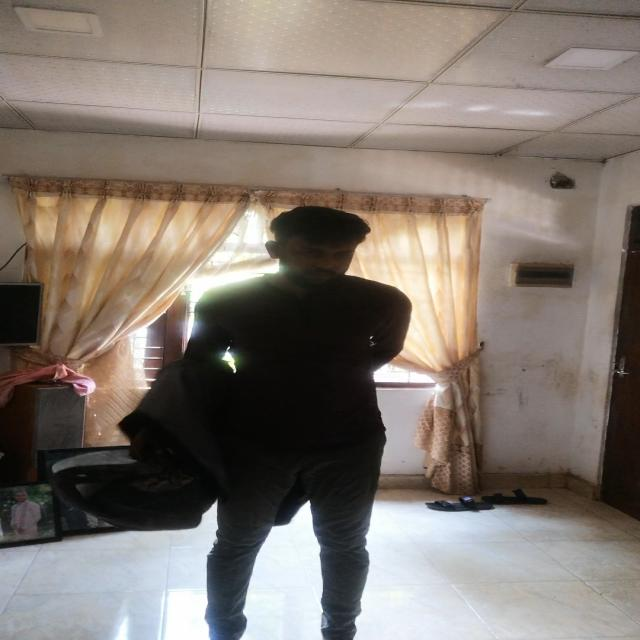Person: (176, 184, 427, 640)
